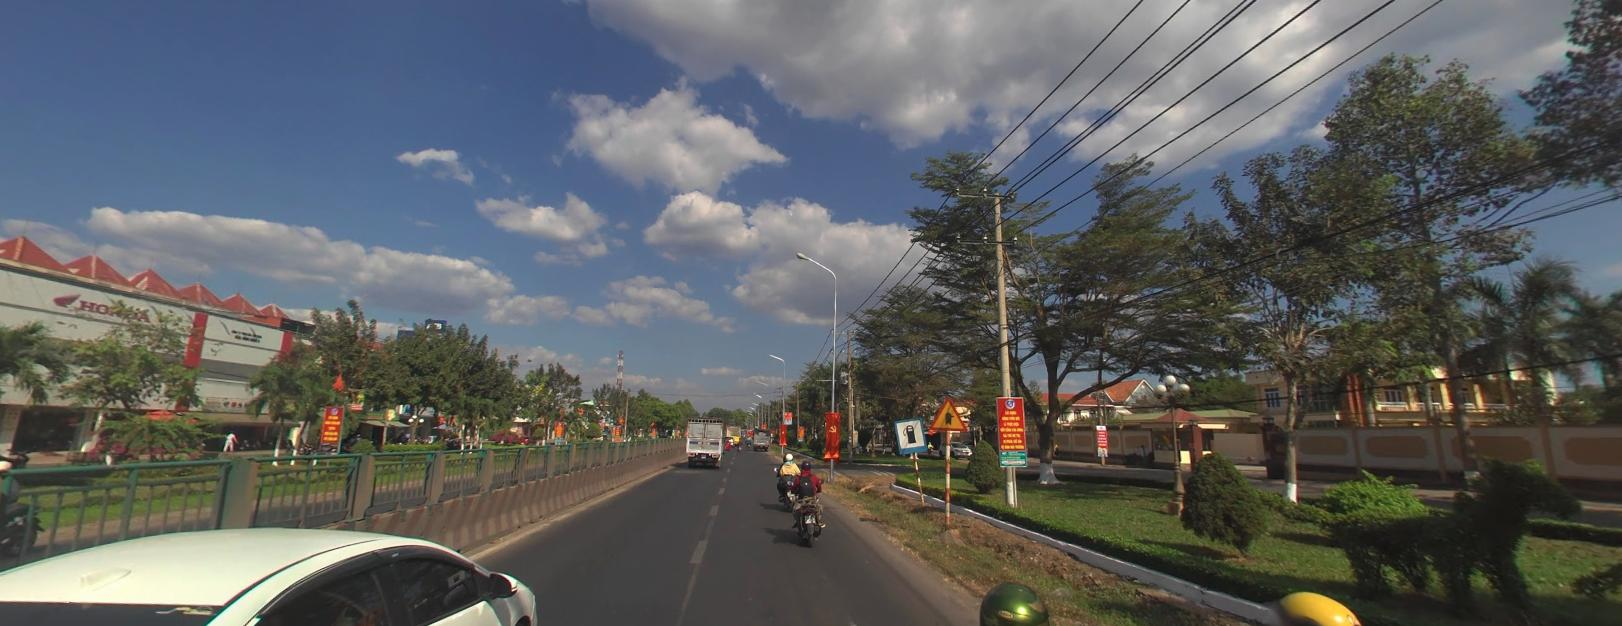Nguy hiem: (929, 394, 969, 430), (929, 395, 969, 430)
